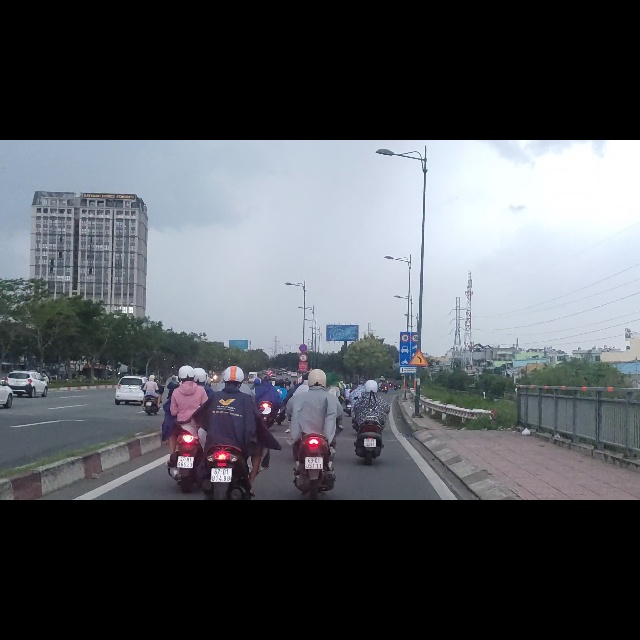bien_chi_dan: (410, 370, 429, 403), (298, 378, 308, 395), (299, 361, 308, 378), (400, 344, 409, 359)
